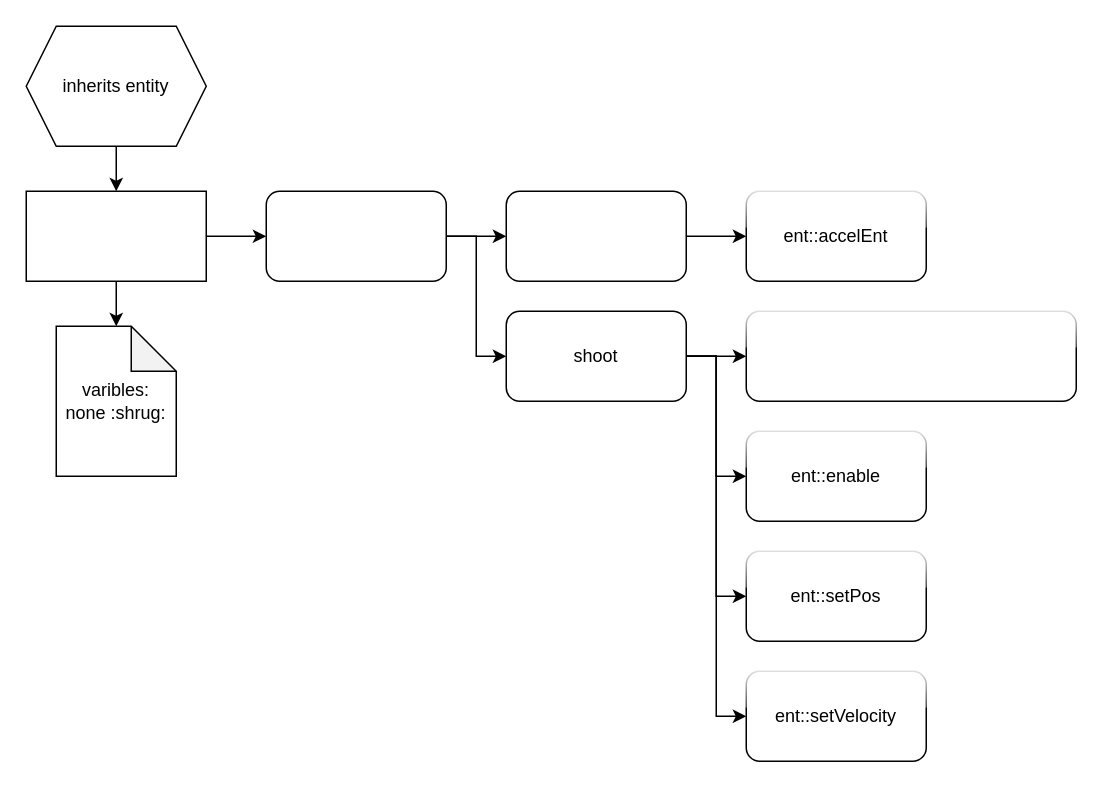
The diagram is 1103 pixels wide and 788 high, and some of its shapes have lost their labels. The centre of each missing label's shape, as x and y in pixels:
doPlrActions: the point at 355,235
doShipMovement: the point at 595,235
entStore::getDeactiveBulletFromPool: the point at 910,355
ship: the point at 115,235
